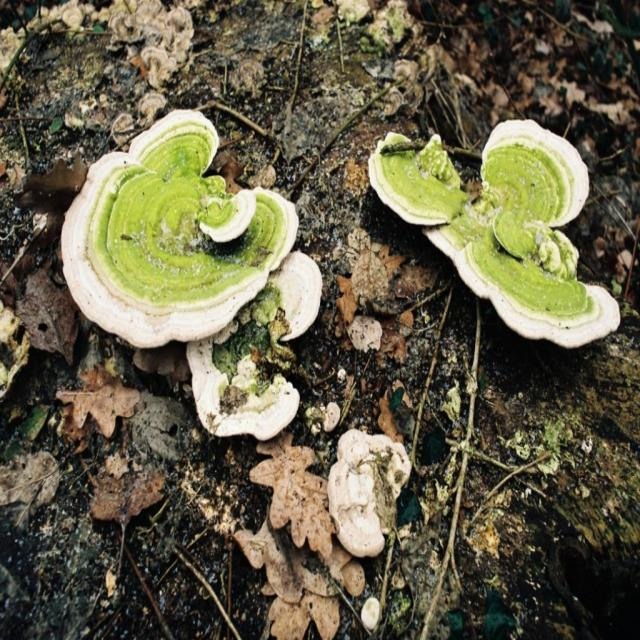Mushroom: (366, 117, 622, 350), (58, 134, 317, 363), (186, 248, 322, 441), (326, 426, 410, 554), (361, 596, 382, 630)
